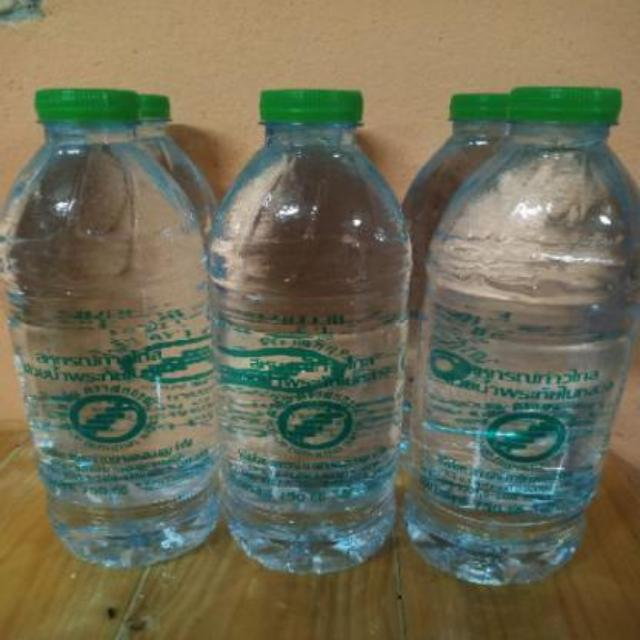plastic_bottle: (393, 77, 632, 593), (3, 81, 225, 559), (209, 72, 415, 574)
